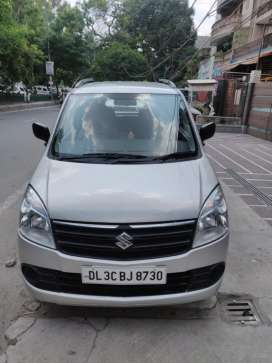license_plate: (82, 268, 166, 283)
